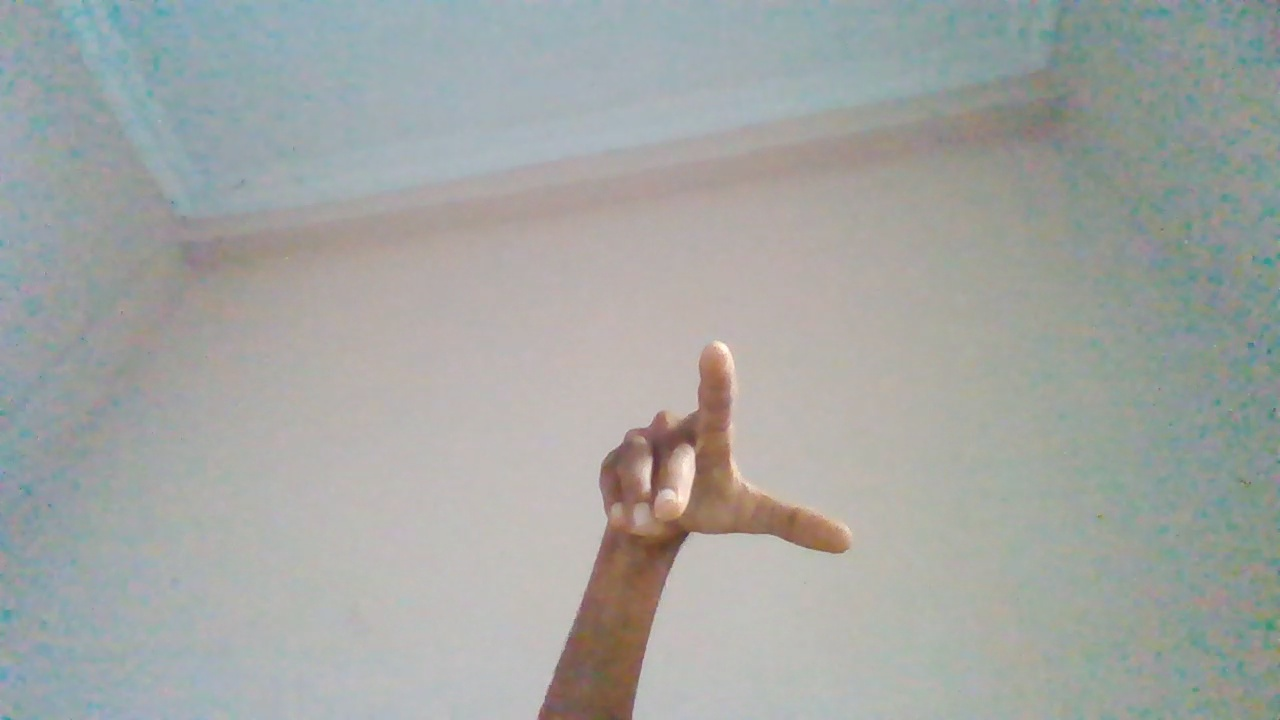ke: (574, 338, 853, 691)
